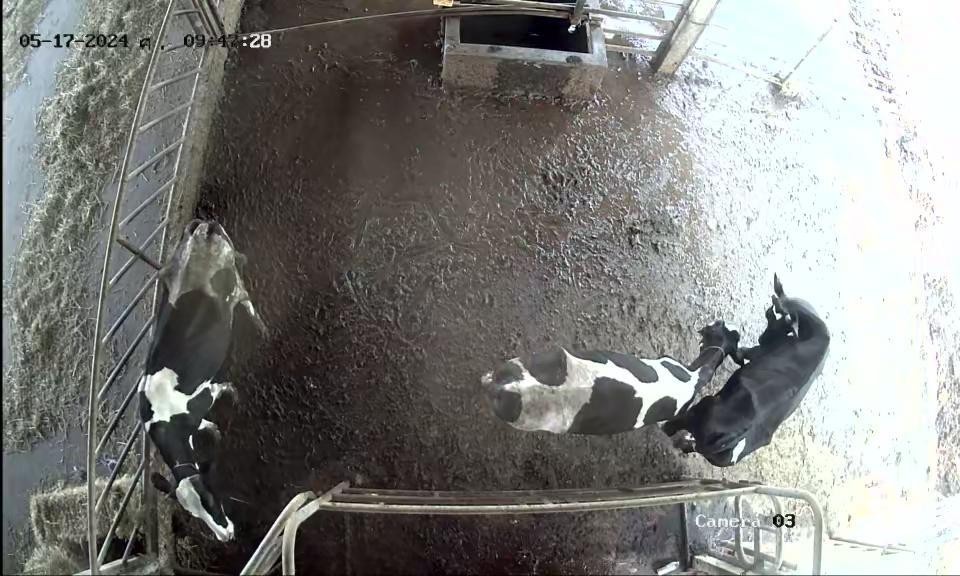stand: (136, 213, 262, 556), (664, 253, 839, 475), (459, 312, 728, 444)
